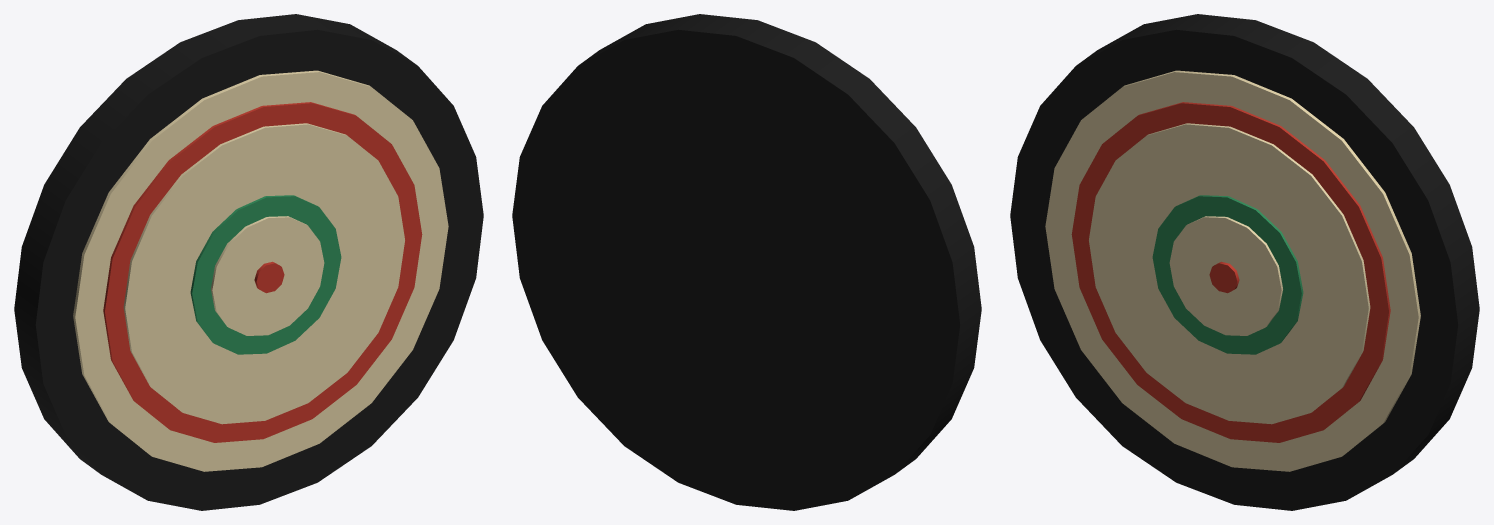
File: dartboard.glb
The picture shows the model from 3 angles, left to right: view 1: azimuth 30°, elevation 25°; view 2: azimuth 150°, elevation 25°; view 3: azimuth 330°, elevation 25°; orthographic projection.
Visible parts, largest first — view 1: dartboard; view 2: dartboard; view 3: dartboard.
Part boxes in pixels (x1,y1,x2,y2): dartboard: (14, 14, 483, 510); dartboard: (512, 14, 981, 510); dartboard: (1010, 14, 1479, 510).
Bounding box in the file's own units: 0.48 × 0.48 × 0.06.
